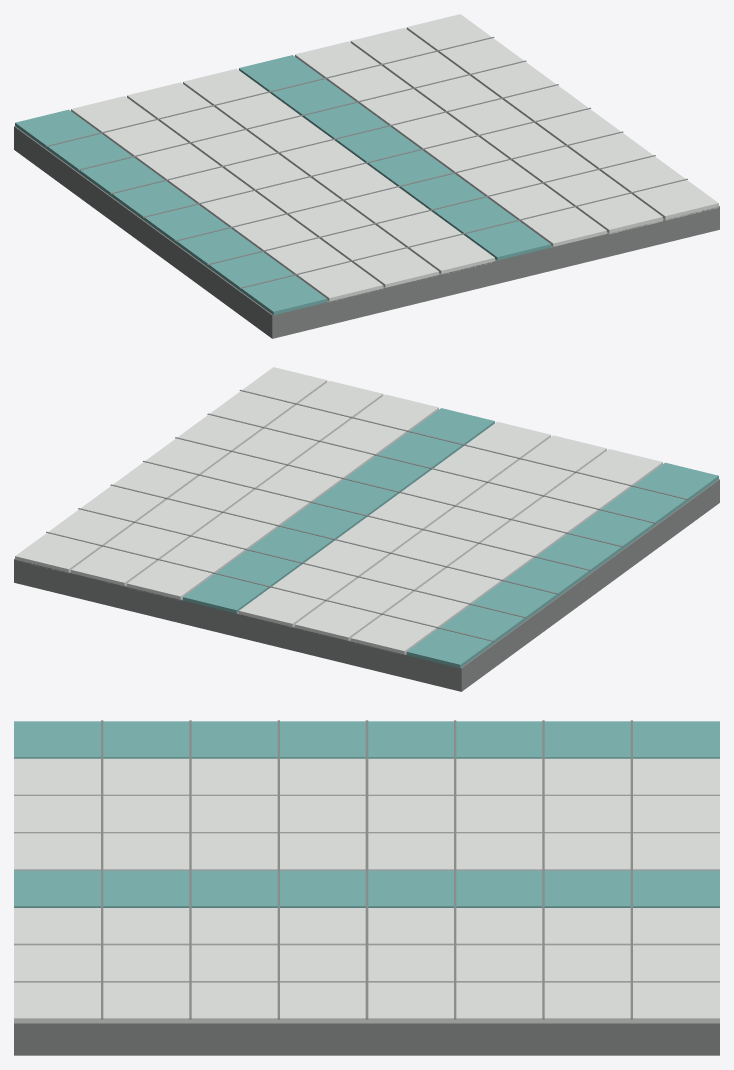
File: floor_hs_tile.glb
3 views of the same model, one above another, from view 1: azimuth 30°, elevation 25°; view 2: azimuth 150°, elevation 25°; view 3: azimuth 270°, elevation 25° (orthographic). The views are drawn at different scales.
Visible parts, largest first — view 1: floor_hs_tile; view 2: floor_hs_tile; view 3: floor_hs_tile.
Boxes of the visible parts, x1,y1,x2,y2 form: floor_hs_tile: (14, 14, 719, 338); floor_hs_tile: (14, 367, 719, 691); floor_hs_tile: (14, 720, 719, 1055).
Size of the model in its own units: 4 by 0.232 by 4.
